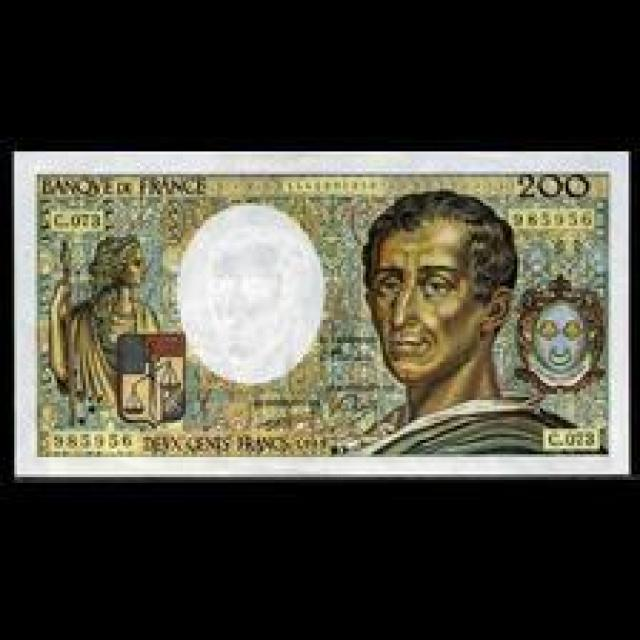banknote: (13, 150, 632, 475), (516, 171, 592, 207), (140, 432, 234, 458)
